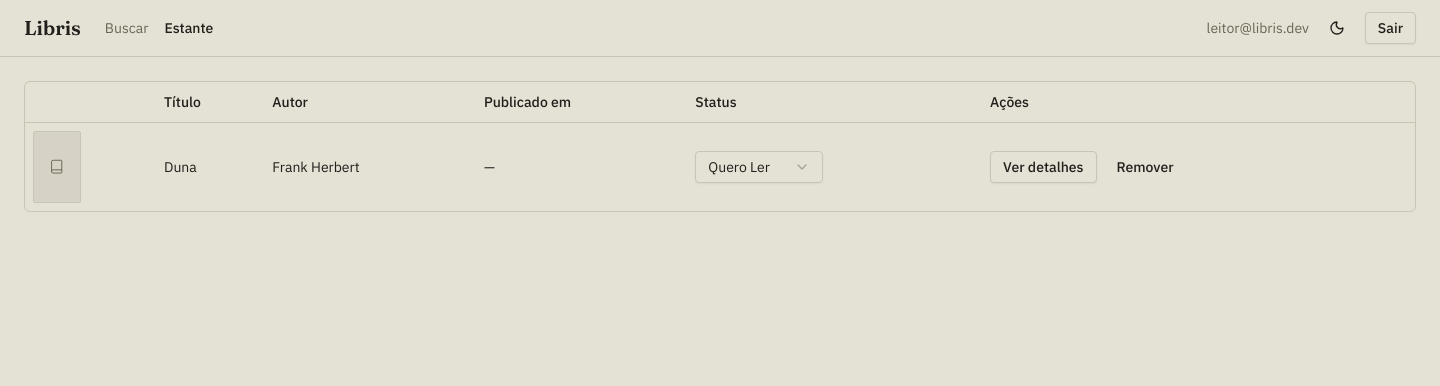
Integração: estante → detalhe do livro › alterar o status na tabela e navegar para o detalhe mantém o estado "na estante" sem refetch
This screenshot has width=1440, height=386.
Click the dropdown named "Status de Duna".
click(759, 166)  # box [695,150,823,182]
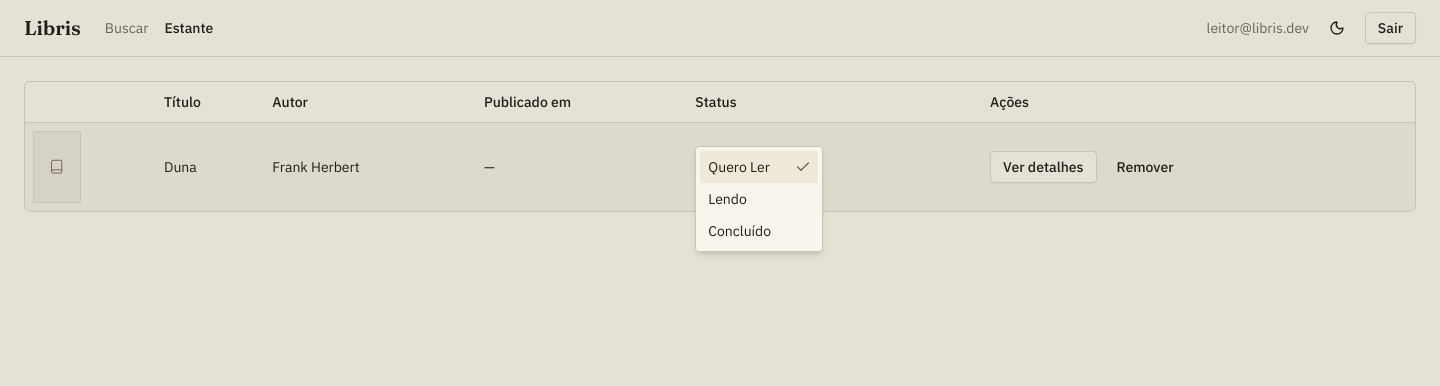
Click the option "Lendo".
click(728, 198)  # box [708,190,747,208]
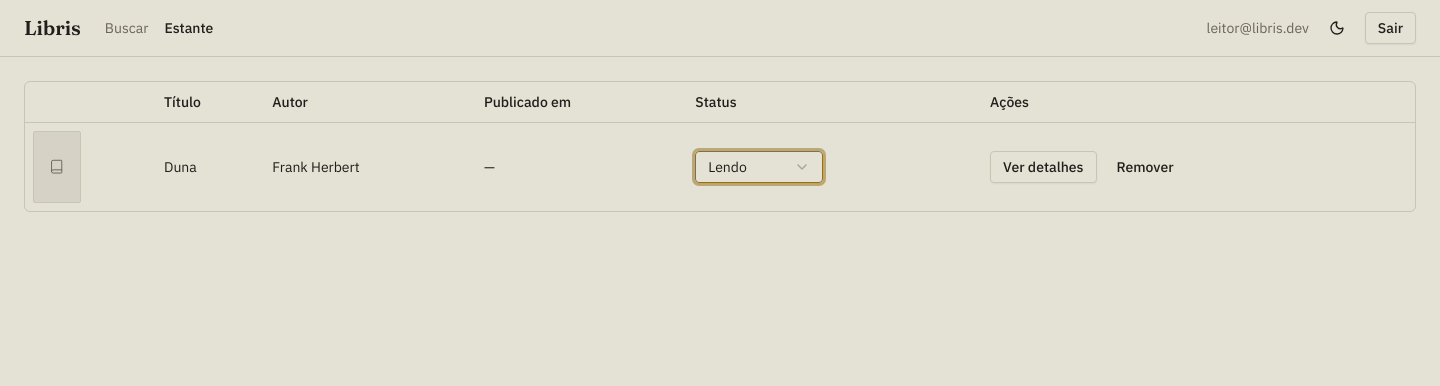
Click the link "Ver detalhes".
click(1043, 166)  # box [990,150,1096,182]
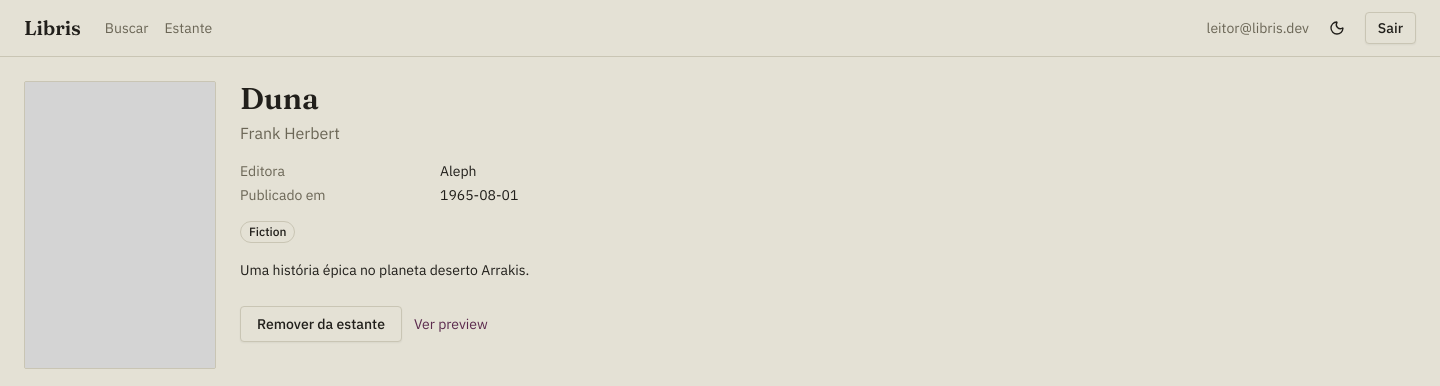
Check: the heading "Duna" is shown, box [240,80,319,117]
Check: the button "Remover da estante" is shown, box [240,306,402,342]
